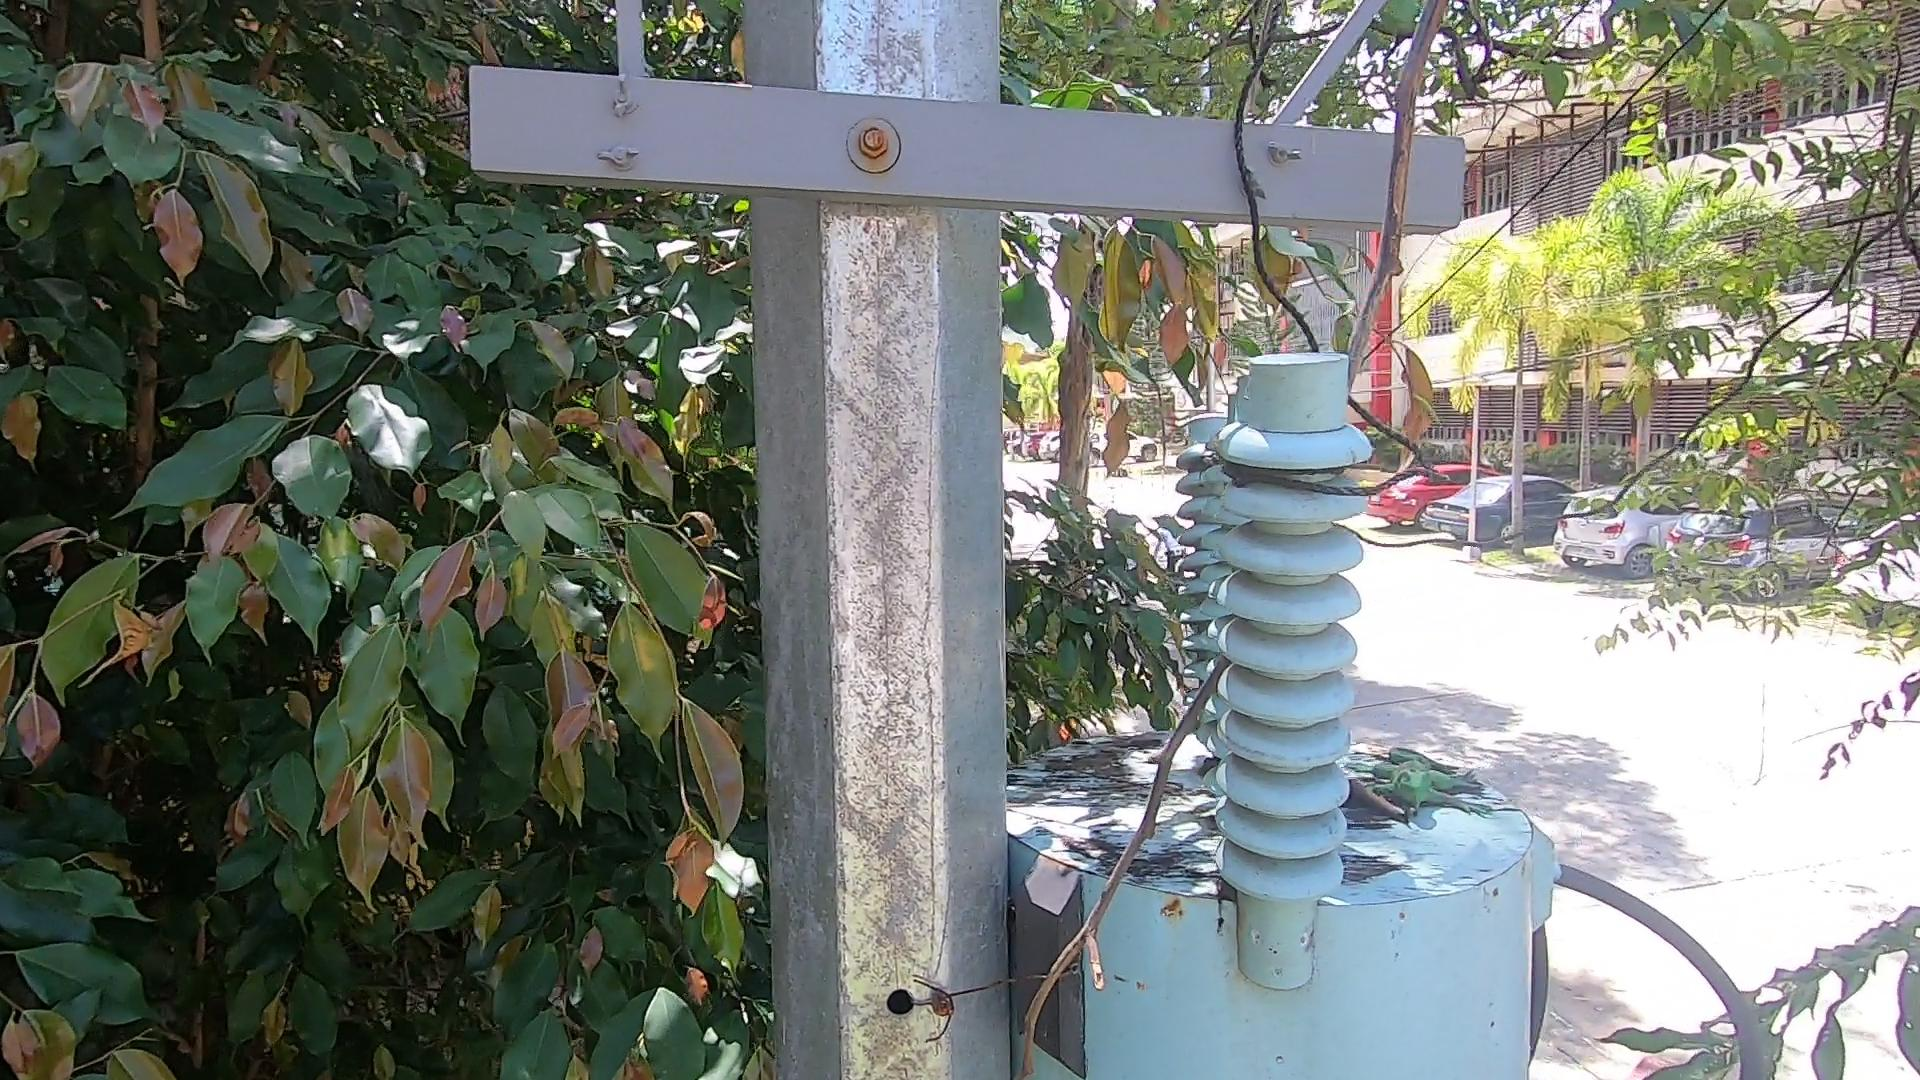branch with leaves: (1047, 248, 1447, 498)
leaf: (1051, 738, 1151, 785), (1342, 771, 1399, 837), (1208, 866, 1249, 910)
tree branch: (981, 7, 1542, 1080)
